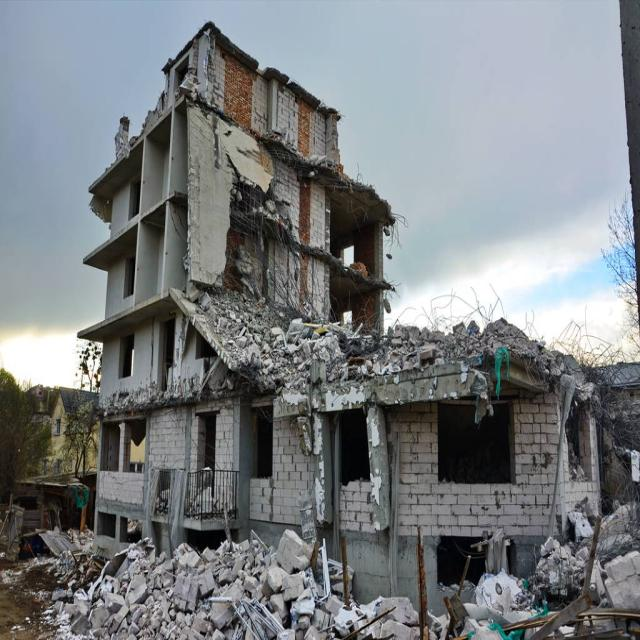Destroyed_building: (25, 0, 620, 640)
